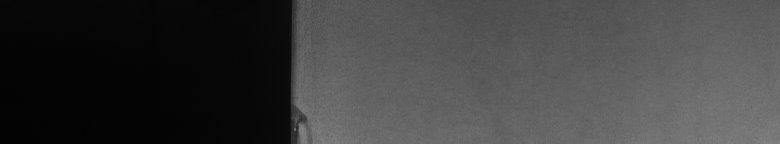hb: (300, 104, 317, 136)
